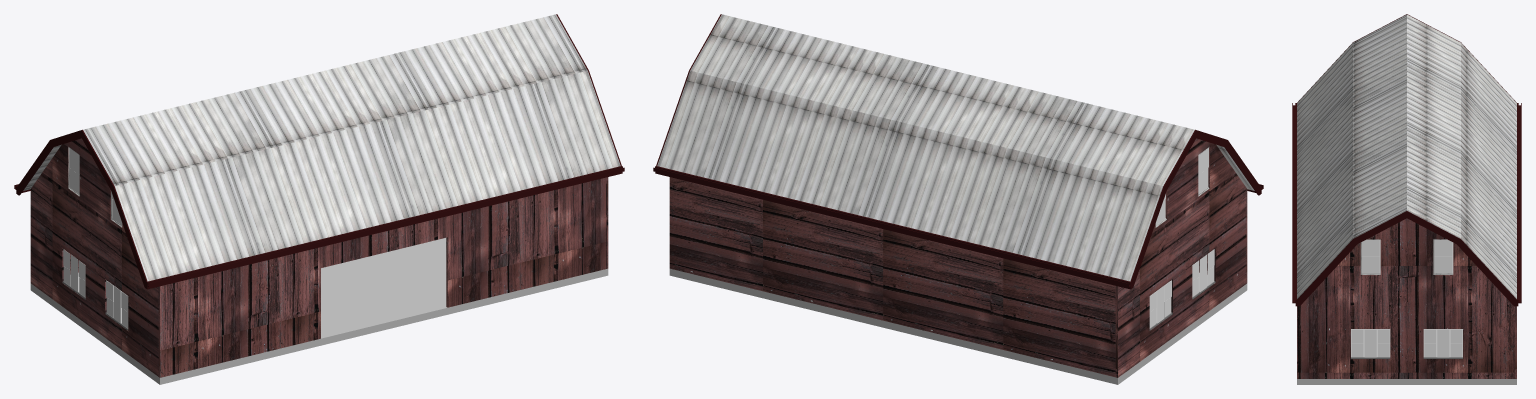
The model's file is barn.obj.
3 views of the same model, side by side, from view 1: azimuth 30°, elevation 25°; view 2: azimuth 150°, elevation 25°; view 3: azimuth 270°, elevation 25° (orthographic). The views are drawn at different scales.
Parts seen in each view (by area): view 1: roofSheet_Default.003, wallFrame_Barn_Wall_Timber.003, slab_Concrete.003, fasciaGutter_Default_Roof.003, windowGlass_Glass.003; view 2: roofSheet_Default.003, wallFrame_Barn_Wall_Timber.003, fasciaGutter_Default_Roof.003, slab_Concrete.003, windowGlass_Glass.003; view 3: roofSheet_Default.003, wallFrame_Barn_Wall_Timber.003, fasciaGutter_Default_Roof.003, windowGlass_Glass.003, slab_Concrete.003.
Boxes of the visible parts, x1,y1,x2,y2 form: roofSheet_Default.003: (23, 14, 620, 281); wallFrame_Barn_Wall_Timber.003: (30, 138, 608, 377); slab_Concrete.003: (30, 238, 608, 384); fasciaGutter_Default_Roof.003: (14, 14, 624, 289); windowGlass_Glass.003: (63, 148, 128, 328); roofSheet_Default.003: (657, 14, 1254, 281); wallFrame_Barn_Wall_Timber.003: (669, 138, 1247, 377); fasciaGutter_Default_Roof.003: (653, 14, 1263, 289); slab_Concrete.003: (669, 268, 1247, 384); windowGlass_Glass.003: (1149, 148, 1214, 328); roofSheet_Default.003: (1297, 14, 1516, 298); wallFrame_Barn_Wall_Timber.003: (1297, 218, 1516, 378); fasciaGutter_Default_Roof.003: (1292, 14, 1521, 306); windowGlass_Glass.003: (1351, 240, 1462, 357); slab_Concrete.003: (1297, 240, 1516, 384).
Bounding box in the file's own units: 21.2 × 8.99 × 10.41.
